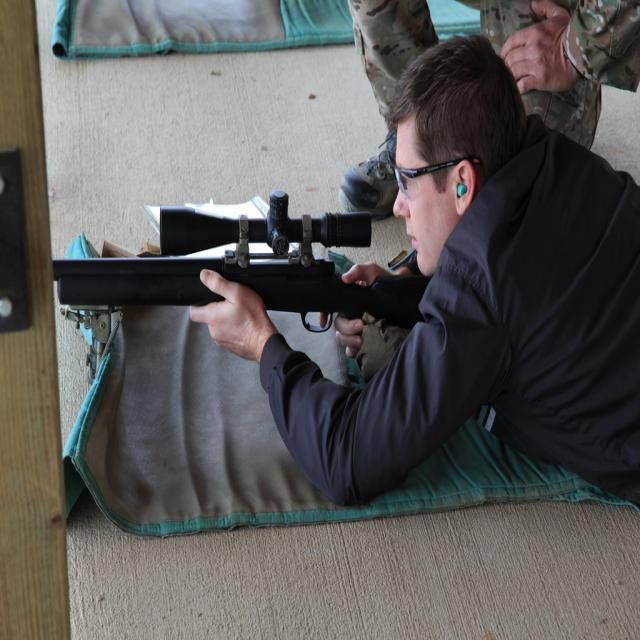weapon: (51, 188, 432, 332)
